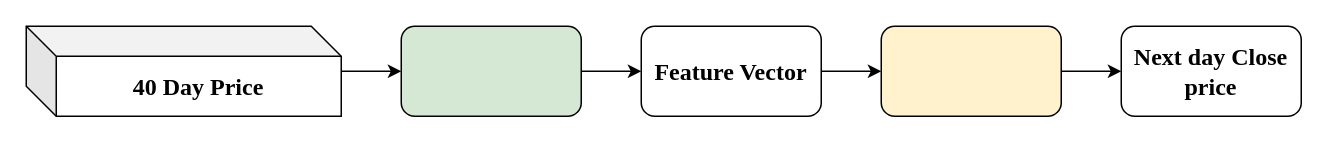
Image size: 1328x143. Some labels were removed from this diagram. Each missing label, with the centre of its shape:
LSTM Decoder: the point at 970,70
MLP: the point at 490,70
